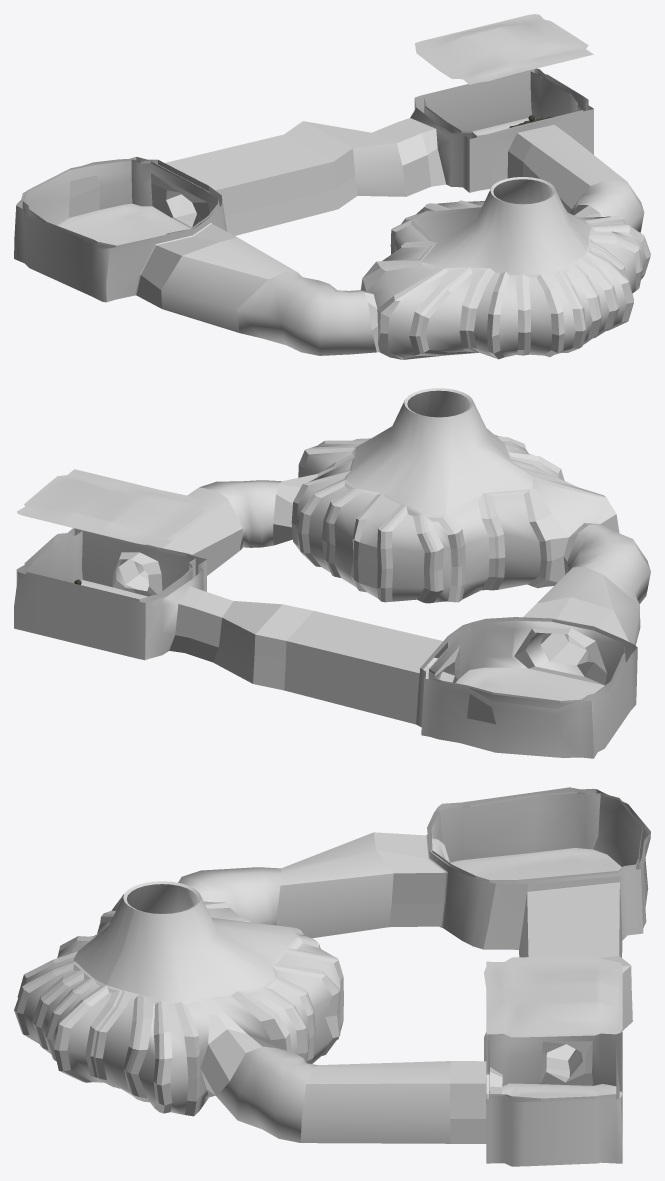
File: environment.FBX
The picture shows the model from 3 angles, top to bottom: view 1: azimuth 30°, elevation 25°; view 2: azimuth 150°, elevation 25°; view 3: azimuth 270°, elevation 25°; orthographic projection. The views are drawn at different scales.
Parts seen in each view (by area): view 1: Torus002, Top; view 2: Torus002, Top; view 3: Torus002, Top.
Part boxes in pixels (x1,y1,x2,y2): Torus002: (14,68,650,359); Top: (415,14,593,84); Torus002: (14,388,650,758); Top: (17,469,206,544); Torus002: (14,787,650,1166); Top: (484,957,622,1037).
Bounding box in the file's own units: 1152 × 273 × 984.
